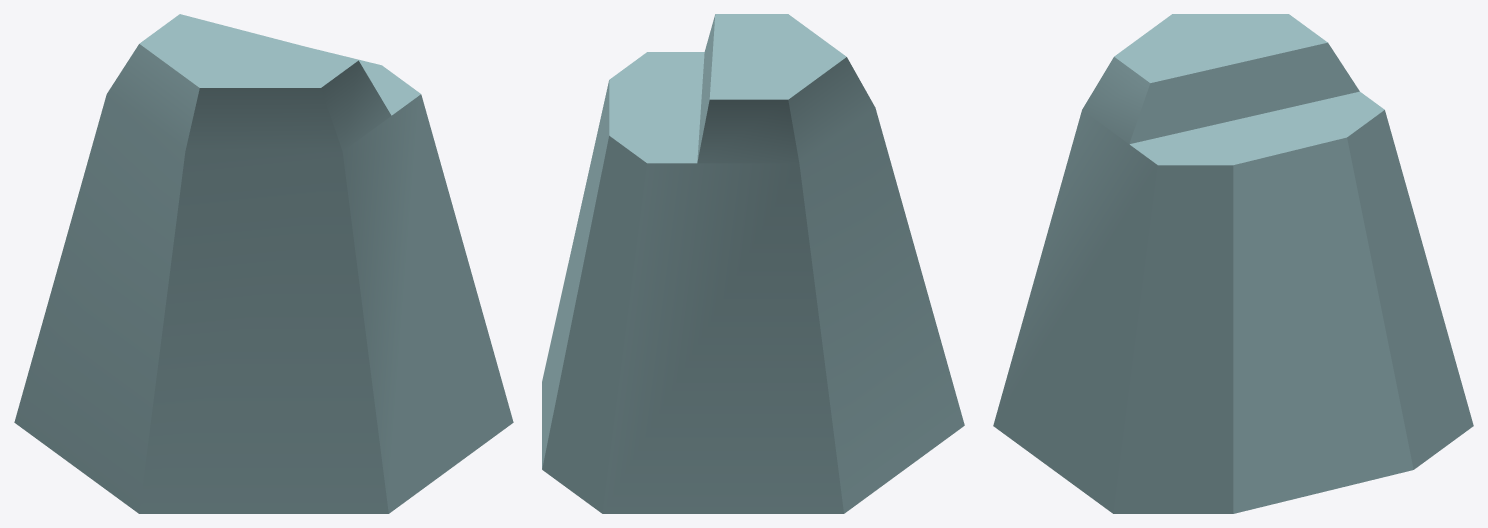
File: stone_tall5.obj
The picture shows the model from 3 angles, left to right: view 1: azimuth 30°, elevation 25°; view 2: azimuth 150°, elevation 25°; view 3: azimuth 270°, elevation 25°; orthographic projection. The views are drawn at different scales.
Visible parts, largest first — view 1: stone_tall5; view 2: stone_tall5; view 3: stone_tall5.
Part boxes in pixels (bbox=[...]): stone_tall5: bbox=[14, 14, 513, 513]; stone_tall5: bbox=[542, 14, 964, 513]; stone_tall5: bbox=[993, 14, 1473, 513].
Size of the model in its own units: 4.56 by 4.44 by 5.27.
